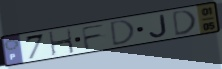7: (23, 33, 47, 60)
D: (109, 18, 137, 48), (171, 8, 198, 38)
F: (80, 22, 108, 52)
H: (47, 27, 77, 57)
J: (147, 13, 169, 39)
